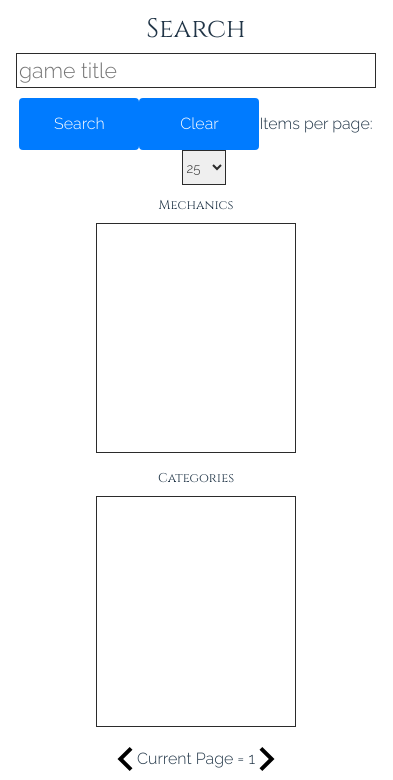
Test: SearchBar Component › navigates between pages using arrow buttons
Click the 2nd icon.
click(267, 758)  # box top-left (255, 746), bottom-right (279, 770)
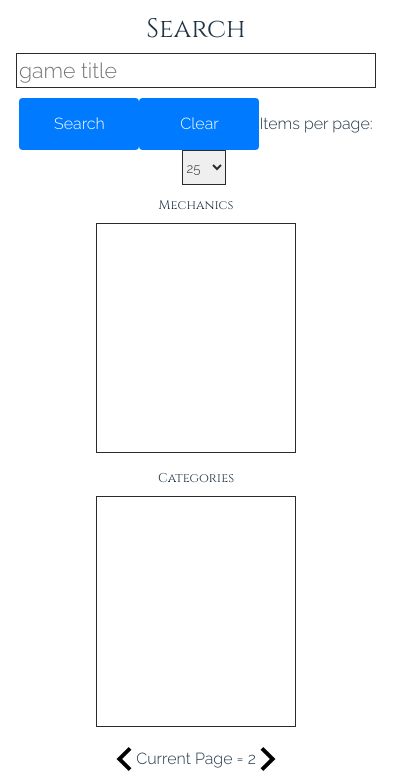
Now the text "2" is shown, box top-left (248, 748), bottom-right (256, 768)
